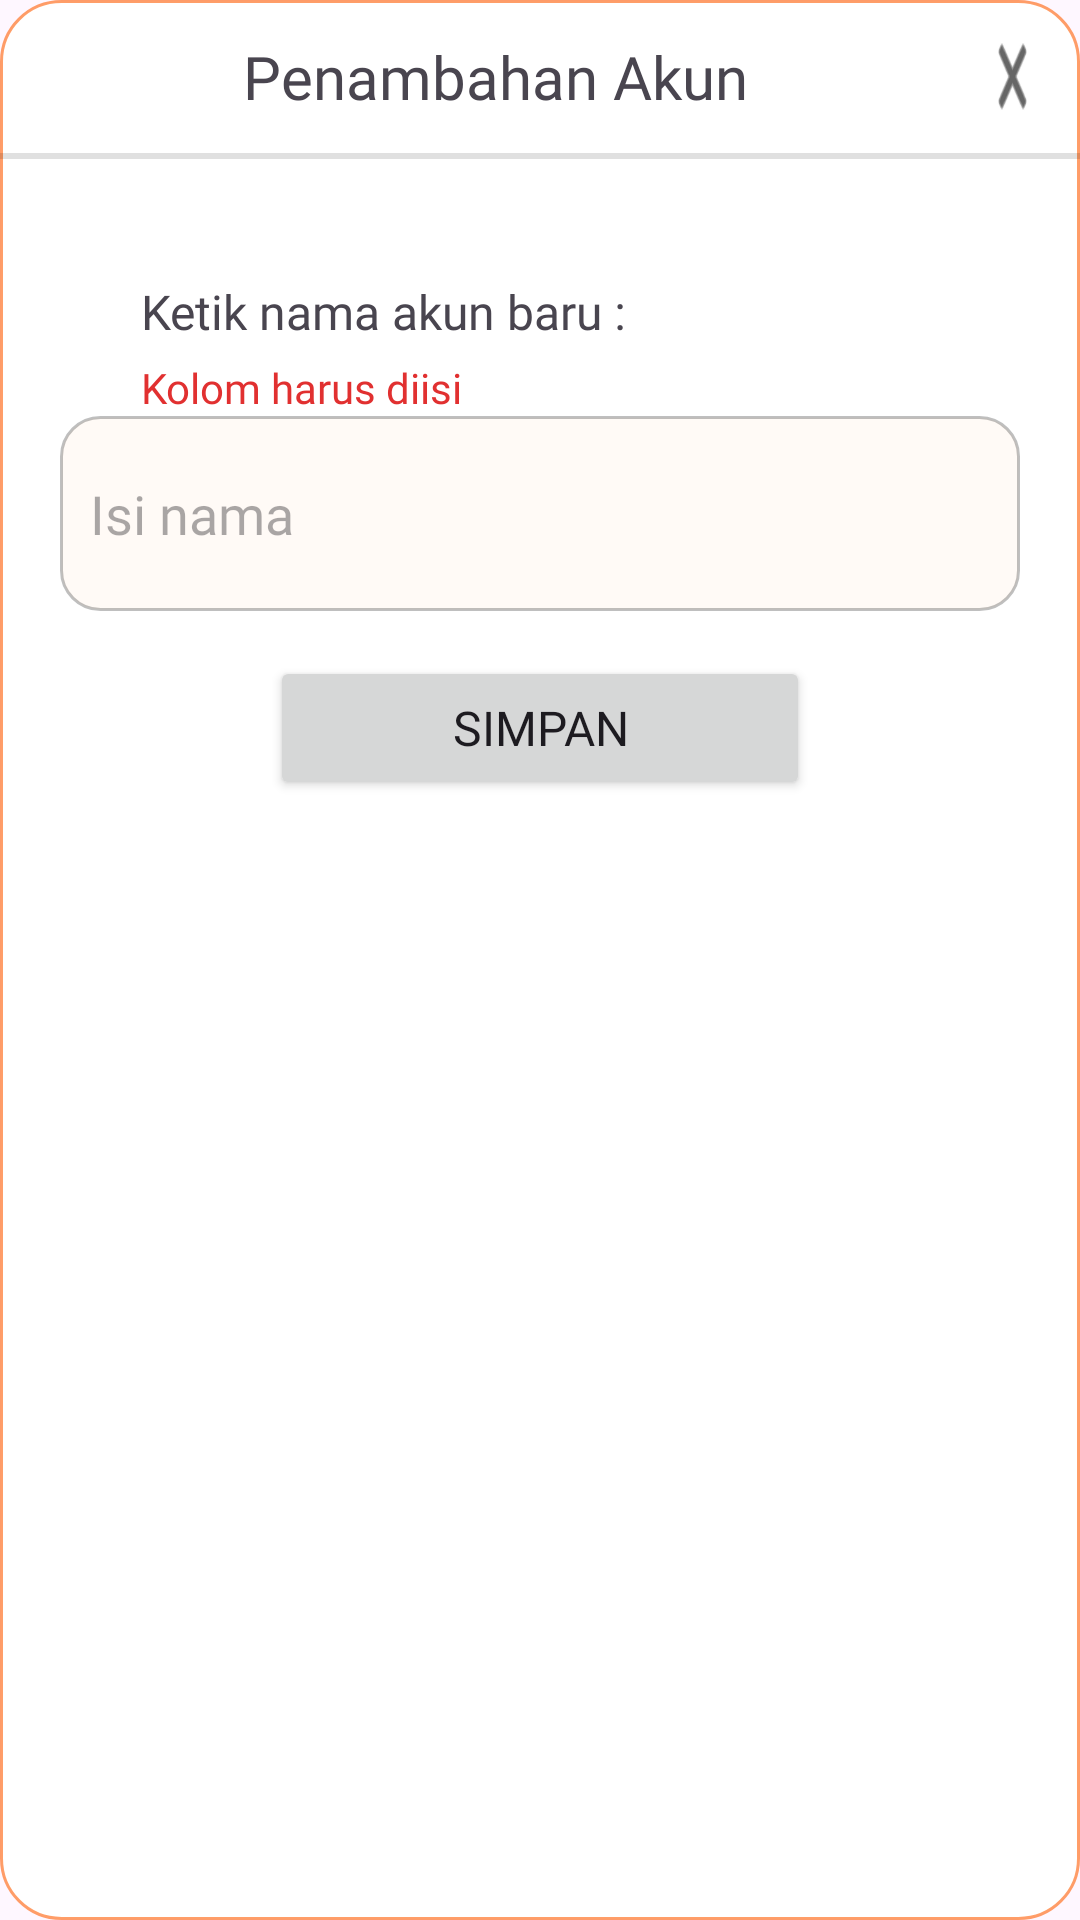

Where to tap for icons on this 1080×1920 app screen, as (x,y):
close clear cancel: (1012,76)
